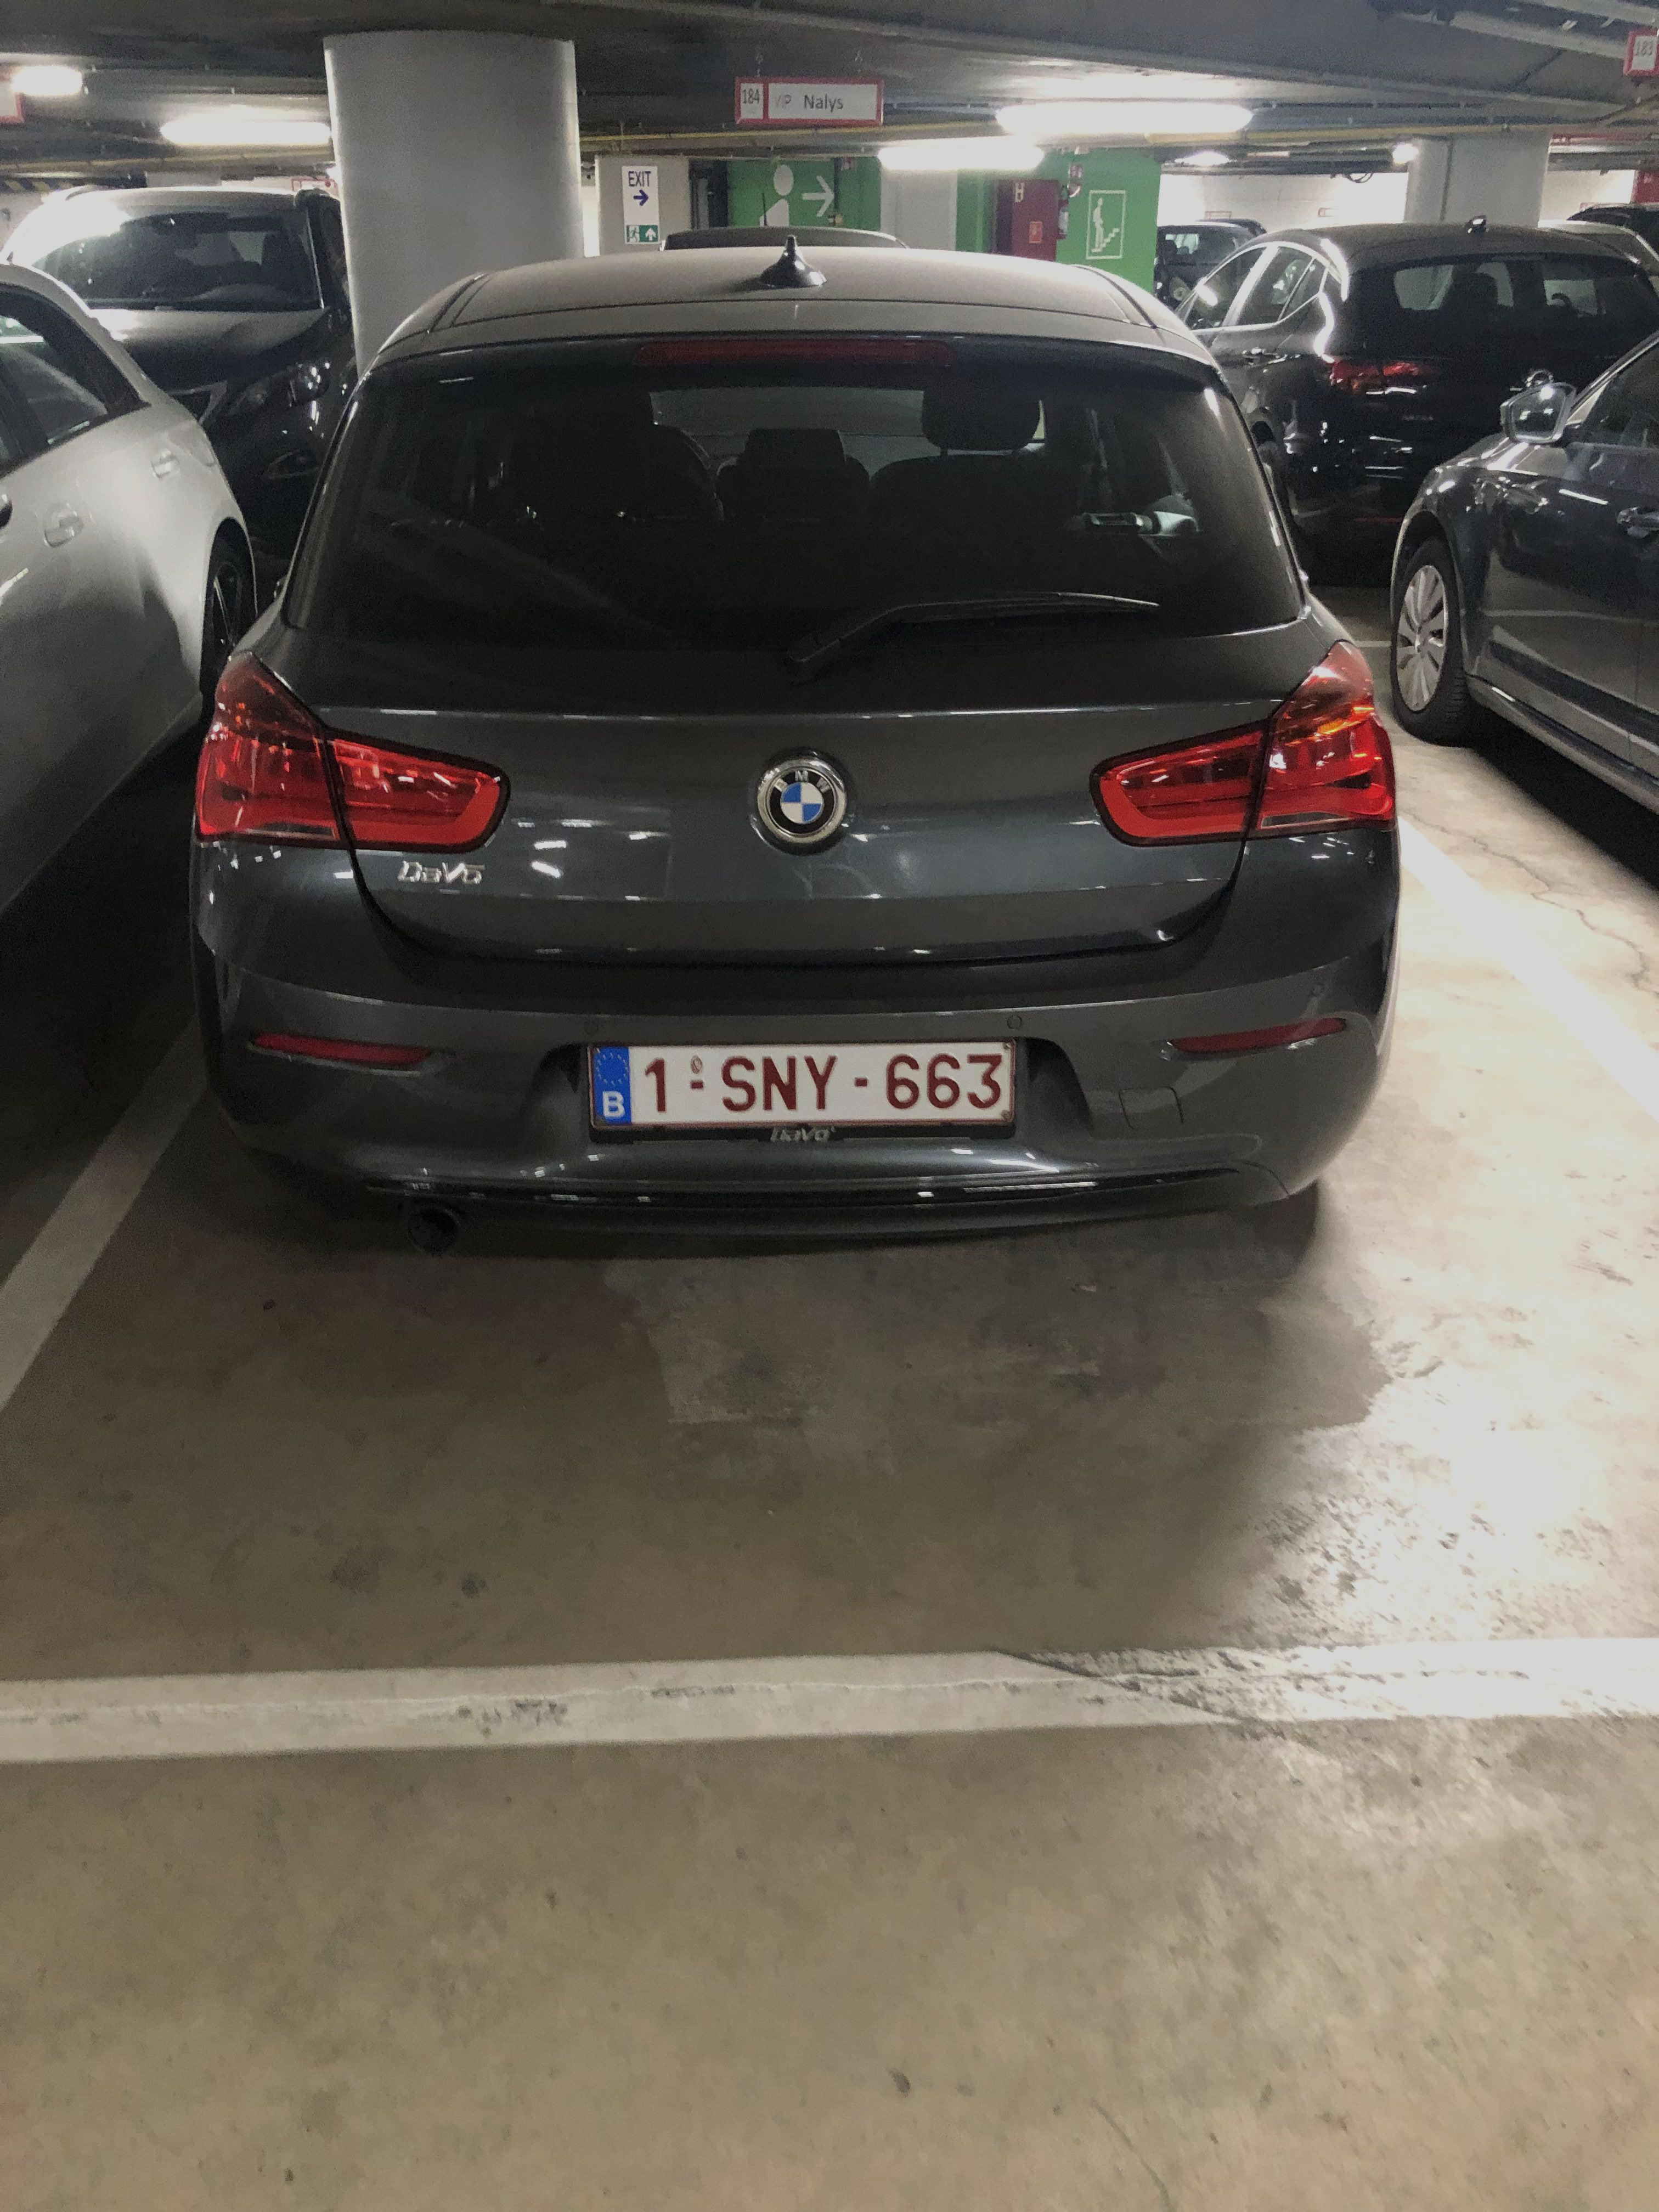plate: (556, 1027, 1036, 1132)
